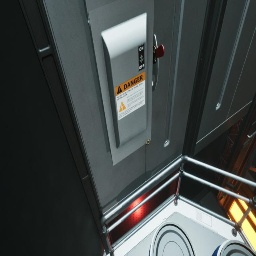SafetySwitchPanel ,: (83, 0, 164, 166)
